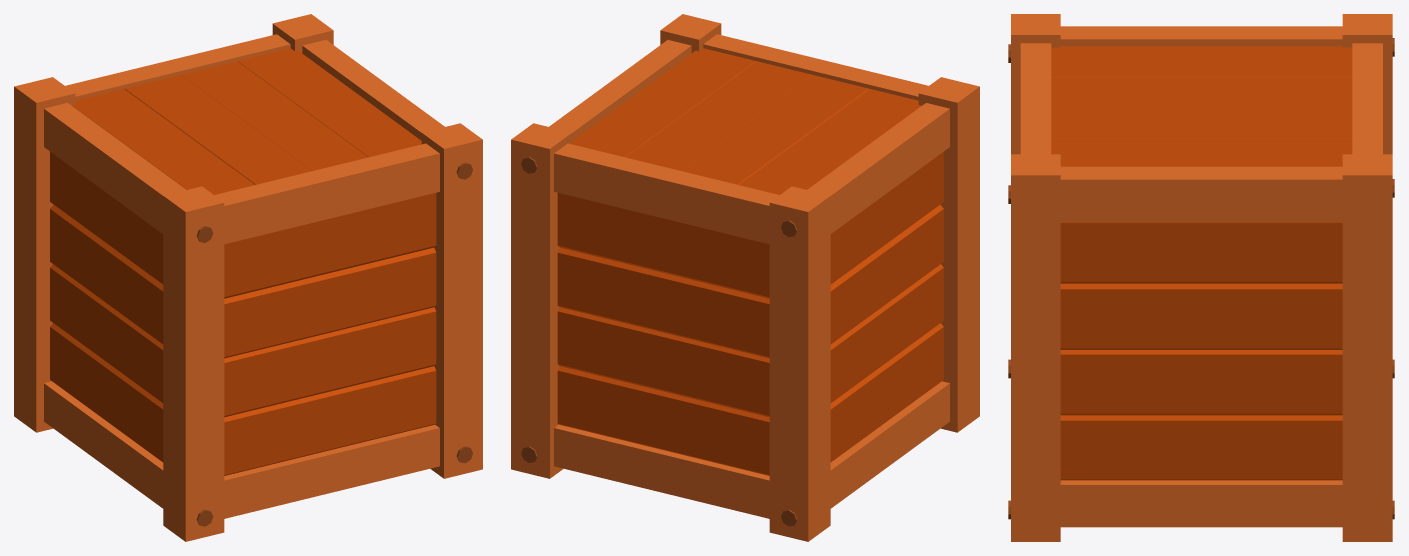
3 views of the same model, side by side, from view 1: azimuth 30°, elevation 25°; view 2: azimuth 150°, elevation 25°; view 3: azimuth 270°, elevation 25° (orthographic). The views are drawn at different scales.
Parts seen in each view (by area): view 1: Box; view 2: Box; view 3: Box.
Boxes of the visible parts, x1,y1,x2,y2 form: Box: [14, 14, 482, 541]; Box: [511, 14, 979, 541]; Box: [1008, 14, 1394, 541].
Bounding box in the file's own units: 1.94 × 2.05 × 1.96.
